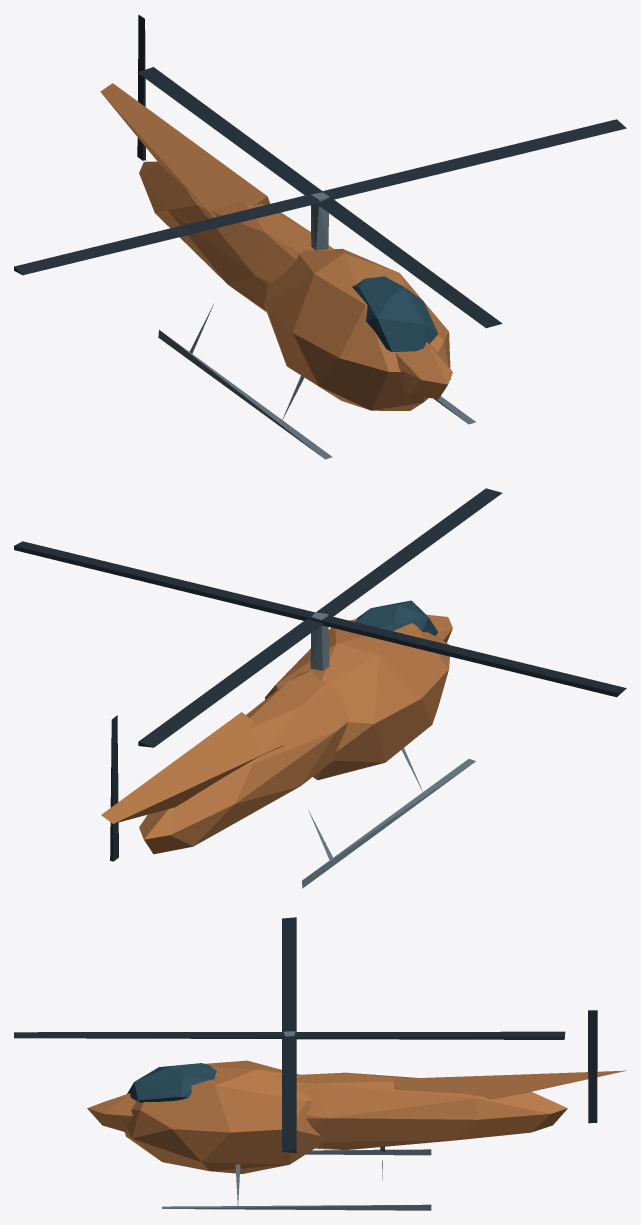
The model's file is aircraft-helicopter.lod2.glb.
3 views of the same model, one above another, from view 1: azimuth 30°, elevation 25°; view 2: azimuth 150°, elevation 25°; view 3: azimuth 270°, elevation 25° (orthographic). The views are drawn at different scales.
Visible parts, largest first — view 1: aircraft-helicopter__body, aircraft-helicopter__main_rotor, aircraft-helicopter__tail_rotor; view 2: aircraft-helicopter__body, aircraft-helicopter__main_rotor, aircraft-helicopter__tail_rotor; view 3: aircraft-helicopter__body, aircraft-helicopter__main_rotor, aircraft-helicopter__tail_rotor.
Part boxes in pixels (bbox=[...]): aircraft-helicopter__body: bbox=[100, 83, 475, 459]; aircraft-helicopter__main_rotor: bbox=[14, 67, 626, 328]; aircraft-helicopter__tail_rotor: bbox=[137, 15, 145, 160]; aircraft-helicopter__body: bbox=[101, 600, 475, 888]; aircraft-helicopter__main_rotor: bbox=[14, 488, 626, 747]; aircraft-helicopter__tail_rotor: bbox=[110, 715, 118, 861]; aircraft-helicopter__body: bbox=[87, 1060, 626, 1210]; aircraft-helicopter__main_rotor: bbox=[14, 917, 565, 1152]; aircraft-helicopter__tail_rotor: bbox=[588, 1010, 597, 1123].
Size of the model in its own units: 8 by 2.85 by 8.9.
